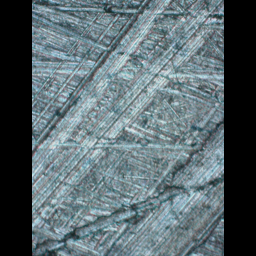d: (32, 0, 224, 233), (103, 112, 224, 254)
